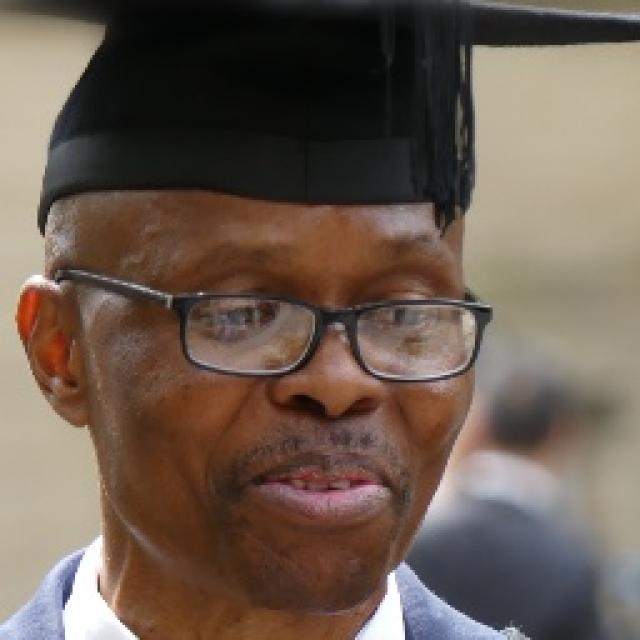earlobe: (48, 383, 90, 428)
eye: (197, 298, 282, 328), (360, 303, 440, 326)
nose: (288, 404, 376, 451)
wholeear: (15, 274, 90, 428)
